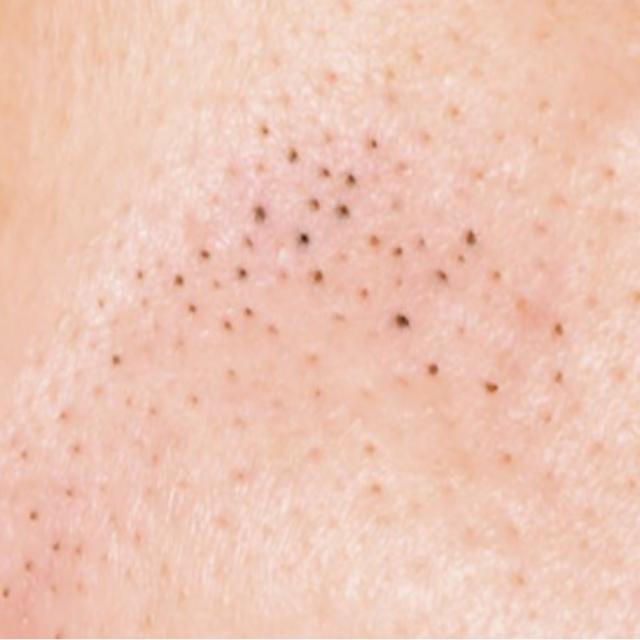blackhead: (89, 115, 587, 422)
